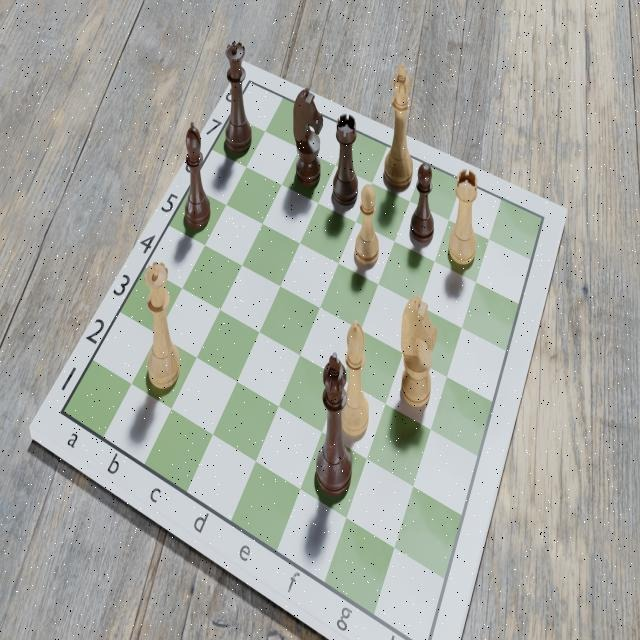black-bishop: (183, 121, 211, 231)
black-king: (315, 351, 353, 497)
black-knight: (292, 86, 324, 189)
black-pawn: (409, 161, 435, 245)
black-queen: (223, 40, 253, 154)
black-rook: (333, 113, 359, 207)
white-bishop: (336, 318, 369, 438)
white-king: (382, 59, 413, 188)
white-knight: (398, 293, 437, 410)
white-pawn: (352, 182, 379, 267)
white-queen: (143, 261, 181, 391)
white-rook: (448, 167, 479, 266)
